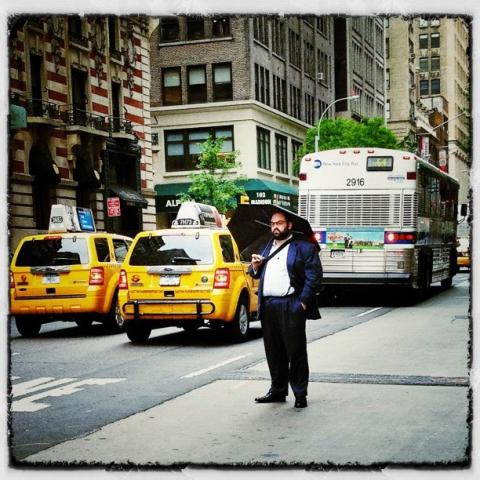bus: (297, 147, 471, 305)
car: (117, 229, 255, 338), (11, 232, 132, 334), (249, 274, 260, 313)
